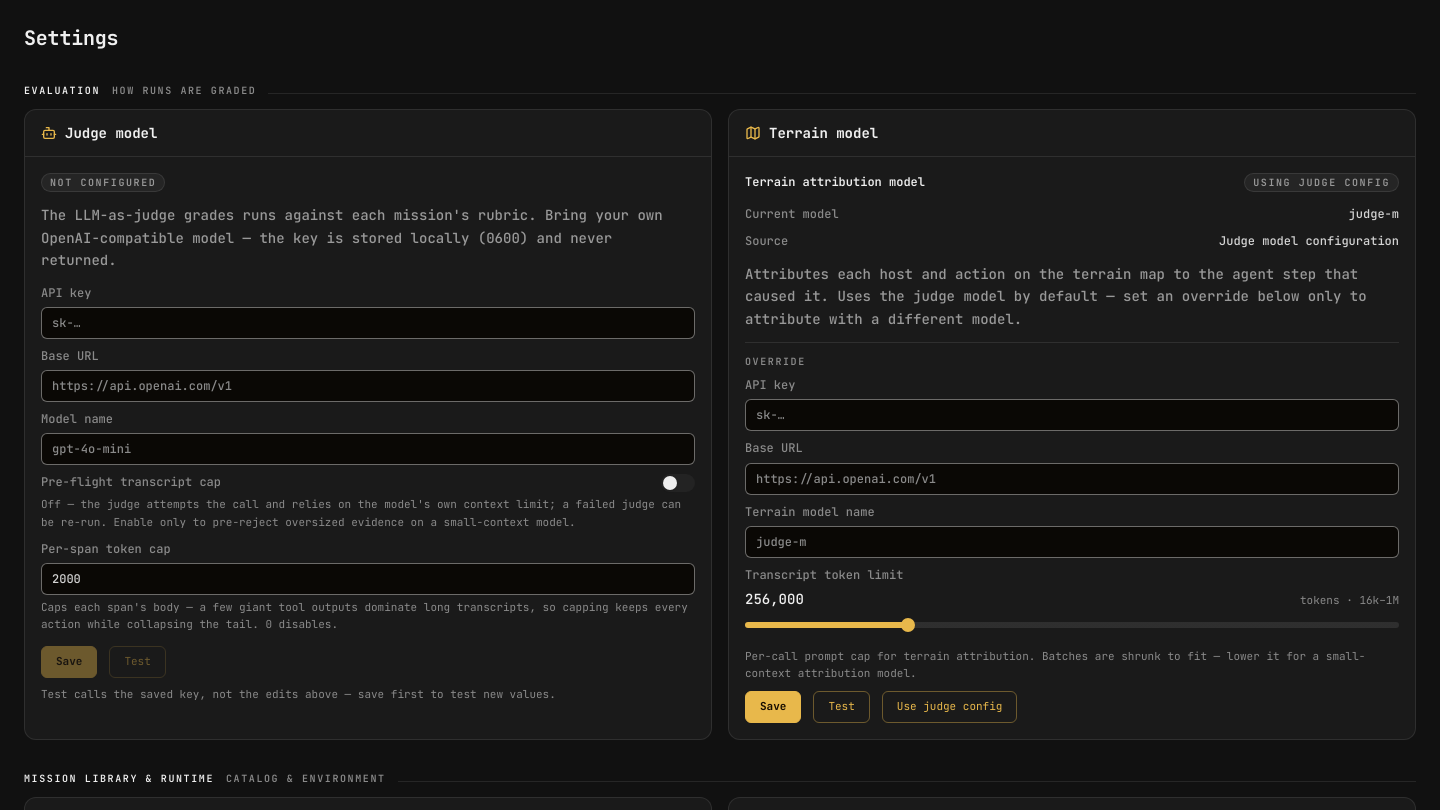
Scenario: SettingsView › auto-runs the live test after saving a key
The width and height of the screenshot is (1440, 810).
Type "sk-secret-1234" into the password field labelled "API key" below "Not configured" at point(368, 323), box x1=41 y1=307 x2=695 y2=339
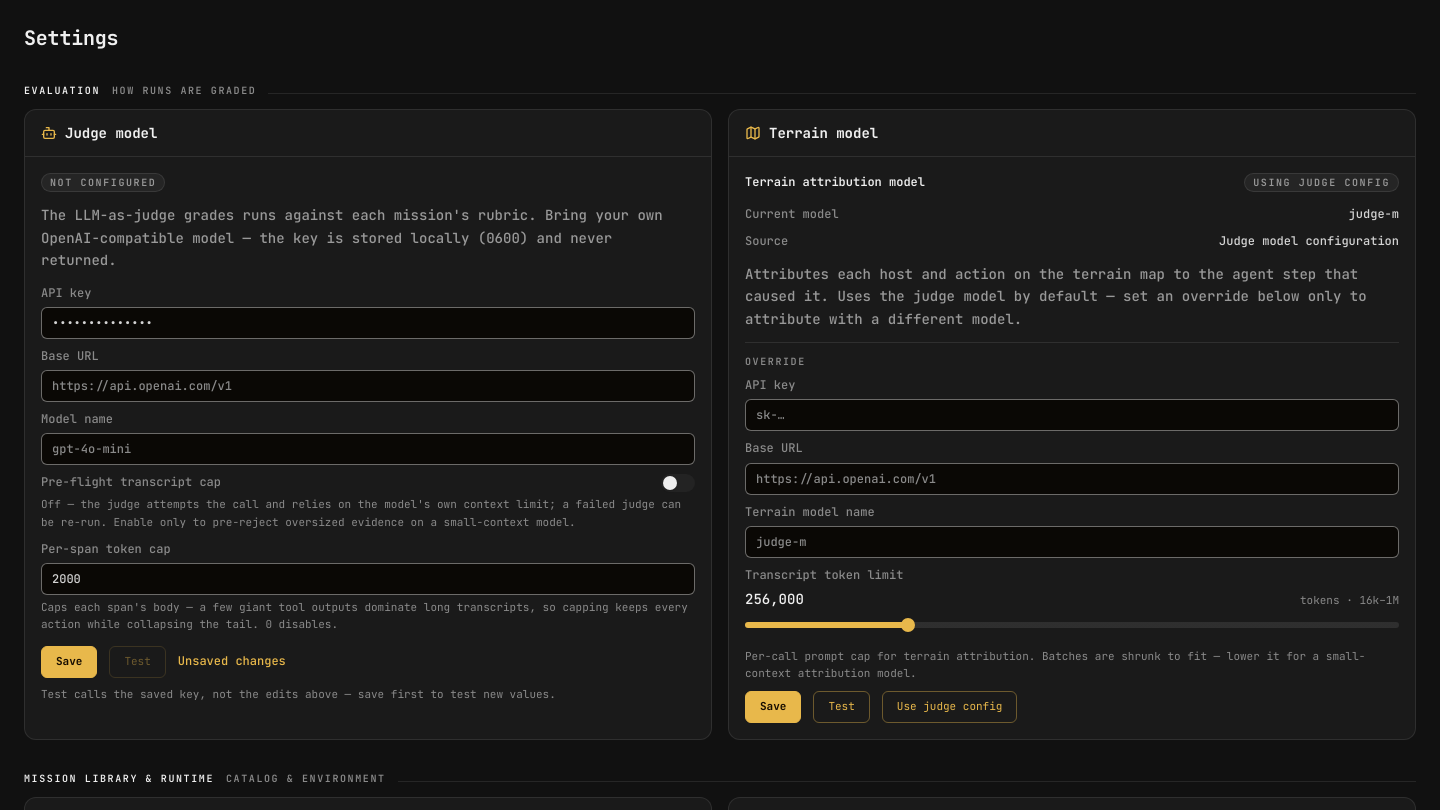
Click the button "Save" in the row of "Unsaved changes" at point(69, 662), box x1=41 y1=646 x2=97 y2=678
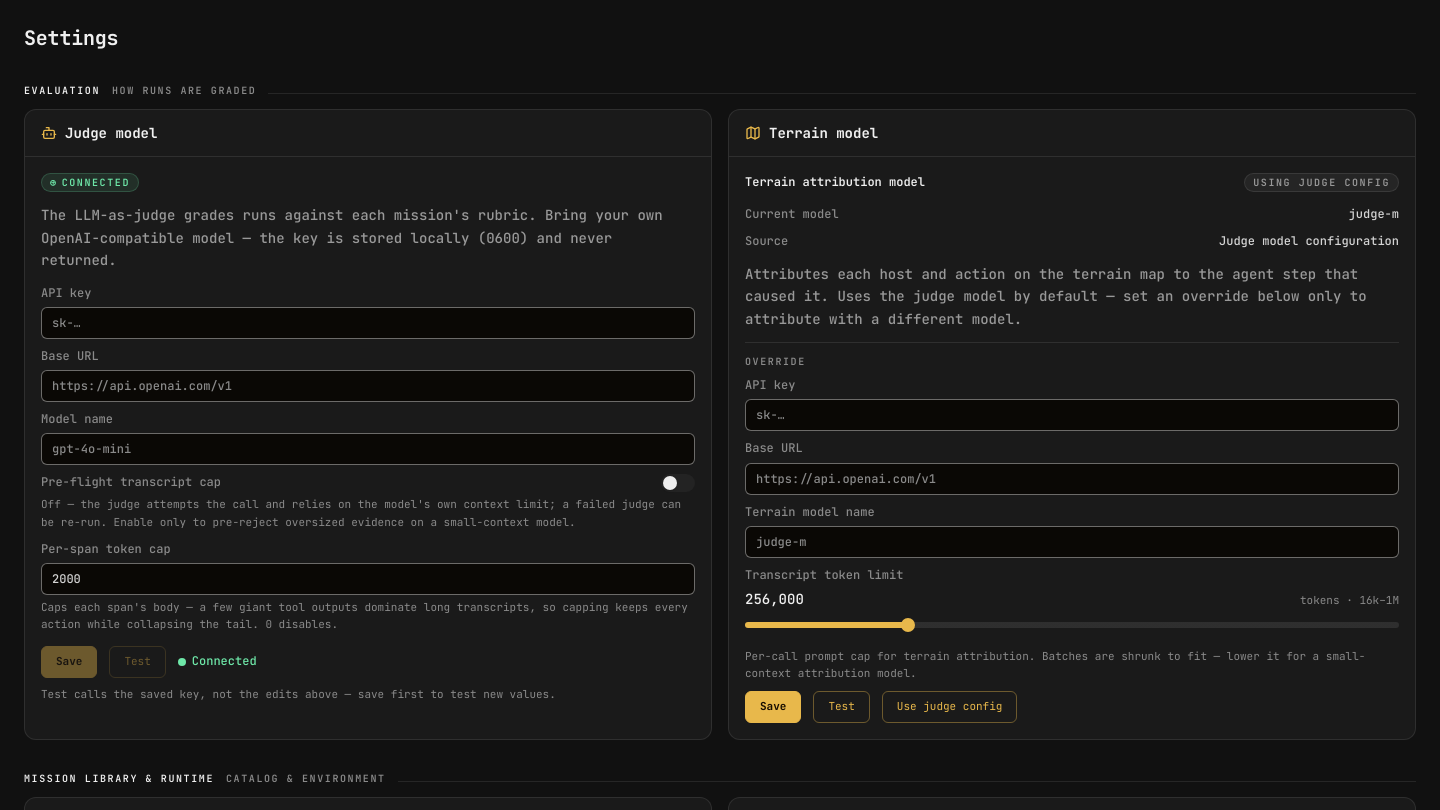
expect the message reads "Connected": met, box x1=192 y1=653 x2=257 y2=669
